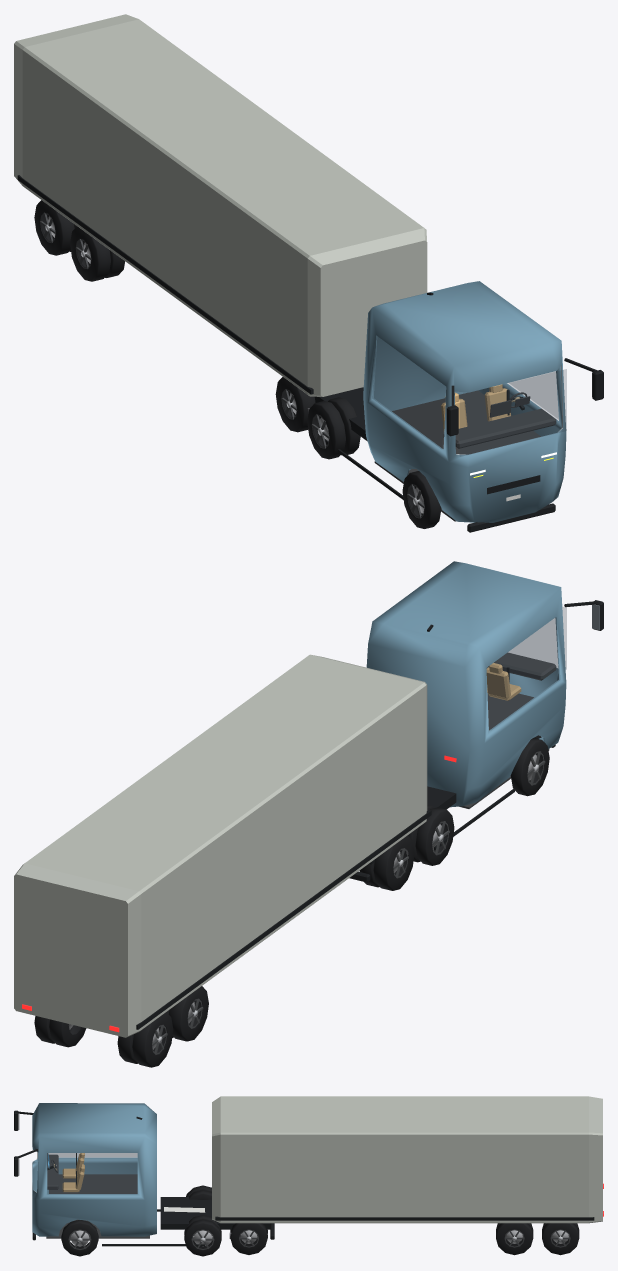
Rendered from fleet-semi.glb.
3 renders of one model, top to bottom at view 1: azimuth 30°, elevation 25°; view 2: azimuth 150°, elevation 25°; view 3: azimuth 270°, elevation 25°, orthographic. The views are drawn at different scales.
Visible parts, largest first — view 1: TrailerShell, Body, Surface_CarRoot_Glass, Interior_CarRoot_InteriorDark, Surface_CarRoot_BlackTrim, Surface_WheelRearR_Tyre, TrailerRail, TrailerWheel-1880_Tyre, WheelFrontR_Tyre, TrailerWheel-11010_Tyre, Surface_WheelRear2R_Tyre, Interior_CarRoot_InteriorLeather; view 2: TrailerShell, Body, Surface_CarRoot_Glass, Interior_CarRoot_InteriorDark, TrailerRail, Surface_WheelRear2R_Tyre, Surface_WheelRearR_Tyre, Surface_CarRoot_BlackTrim, TrailerWheel-11010_Tyre, WheelFrontR_Tyre, TrailerWheel-1880_Tyre, Interior_CarRoot_InteriorLeather (+1 smaller); view 3: TrailerShell, Body, Surface_CarRoot_Glass, Surface_CarRoot_BlackTrim, Interior_CarRoot_InteriorDark, TrailerRail.001, Surface_WheelRearL_Tyre, Surface_WheelRear2L_Tyre, TrailerWheel11010_Tyre, TrailerWheel1880_Tyre, WheelFrontL_Tyre, Interior_CarRoot_InteriorLeather (+1 smaller).
Boxes of the visible parts, x1,y1,x2,y2 form: TrailerShell: (14, 14, 427, 396); Body: (363, 281, 566, 522); Surface_CarRoot_Glass: (372, 336, 566, 456); Interior_CarRoot_InteriorDark: (374, 390, 556, 521); Surface_CarRoot_BlackTrim: (314, 292, 603, 532); Surface_WheelRearR_Tyre: (307, 397, 360, 459); TrailerRail: (17, 175, 313, 394); TrailerWheel-1880_Tyre: (70, 226, 110, 281); WheelFrontR_Tyre: (402, 471, 441, 528); TrailerWheel-11010_Tyre: (34, 200, 74, 255); Surface_WheelRear2R_Tyre: (275, 377, 315, 432); Interior_CarRoot_InteriorLeather: (441, 384, 510, 430); TrailerShell: (14, 654, 427, 1037); Body: (366, 561, 566, 807); Surface_CarRoot_Glass: (487, 607, 566, 729); Interior_CarRoot_InteriorDark: (459, 652, 556, 808); TrailerRail: (136, 810, 431, 1029); Surface_WheelRear2R_Tyre: (359, 835, 414, 890); Surface_WheelRearR_Tyre: (409, 805, 454, 865); Surface_CarRoot_BlackTrim: (349, 600, 603, 882); TrailerWheel-11010_Tyre: (132, 1012, 173, 1067); WheelFrontR_Tyre: (510, 738, 549, 796); TrailerWheel-1880_Tyre: (168, 986, 208, 1041); Interior_CarRoot_InteriorLeather: (486, 663, 521, 700); TrailerShell: (212, 1096, 602, 1223); Body: (32, 1103, 156, 1236); Surface_CarRoot_Glass: (47, 1153, 137, 1194); Surface_CarRoot_BlackTrim: (14, 1110, 274, 1246); Interior_CarRoot_InteriorDark: (46, 1153, 149, 1238); TrailerRail.001: (215, 1216, 594, 1220); Surface_WheelRearL_Tyre: (184, 1215, 221, 1256); Surface_WheelRear2L_Tyre: (230, 1223, 267, 1254); TrailerWheel11010_Tyre: (542, 1223, 579, 1255); TrailerWheel1880_Tyre: (496, 1223, 533, 1255); WheelFrontL_Tyre: (61, 1220, 98, 1256); Interior_CarRoot_InteriorLeather: (62, 1153, 84, 1190).
Bounding box in the file's own units: 3.26 × 3.85 × 16.67.
